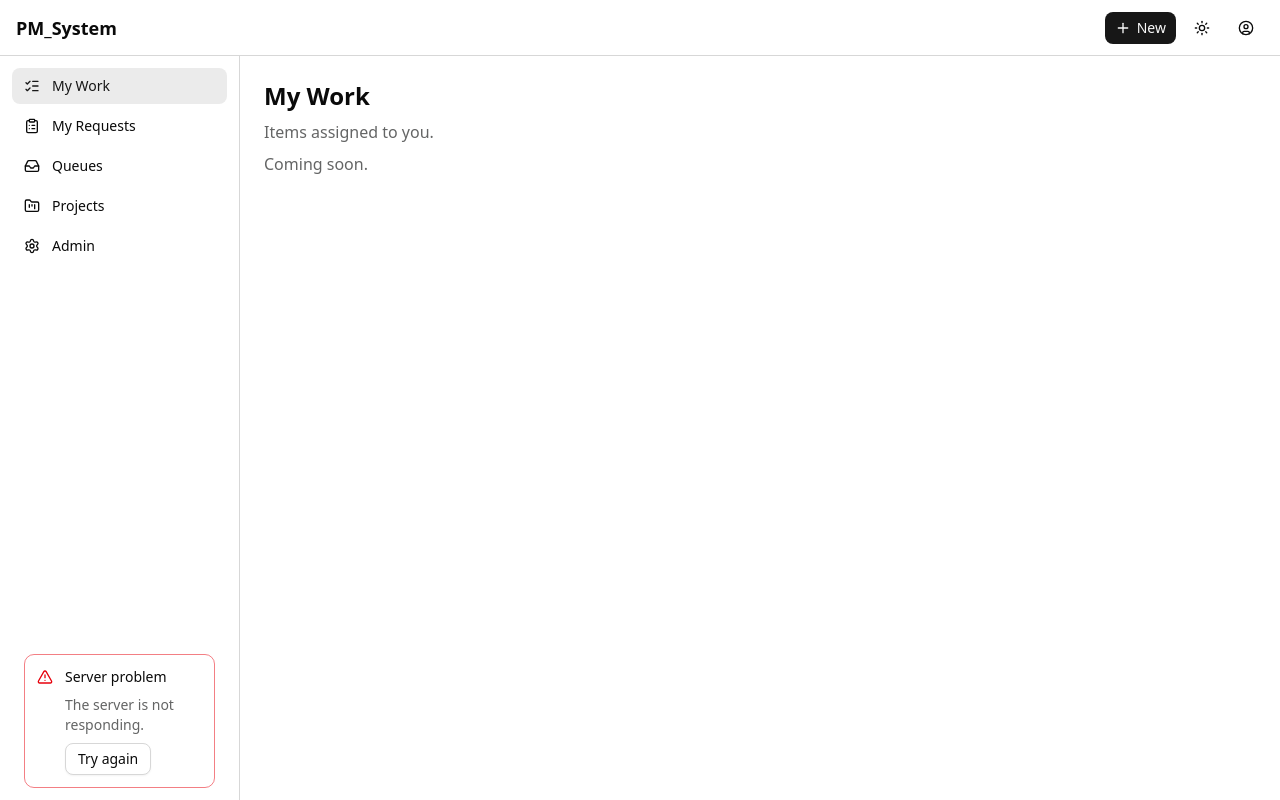
Test: app shell › says so when the server does not answer, and can try again
Expected: the message shows "The server is not responding.", [65, 695, 174, 734]
Click the button "Try again": (108, 759) [65, 743, 151, 775]
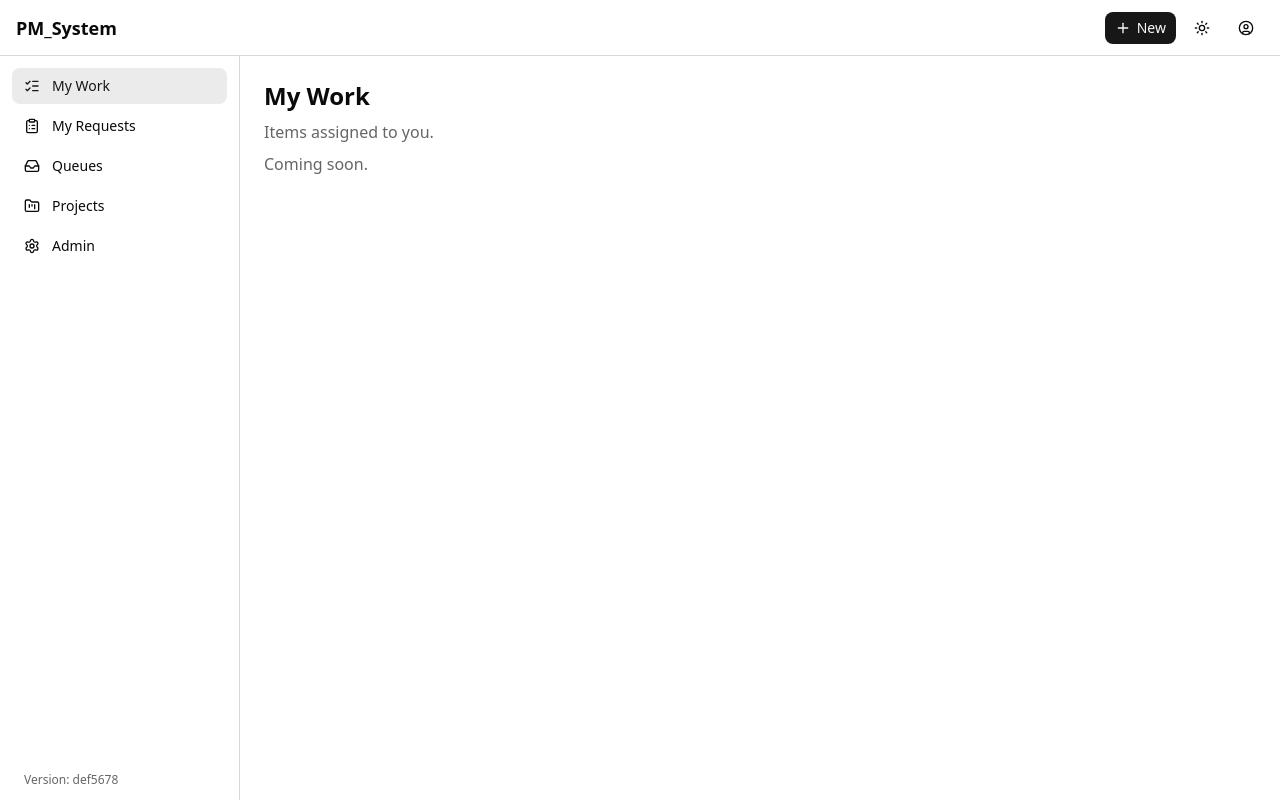
Expected: the text "Version: def5678" is shown, [24, 771, 118, 788]
